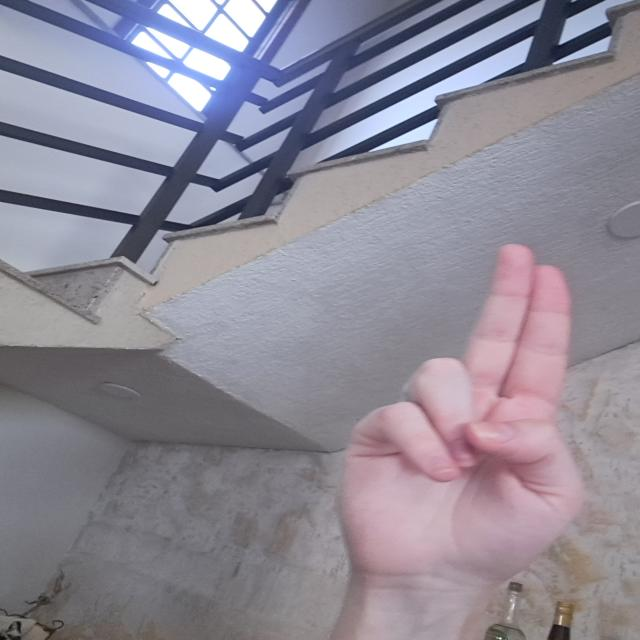U: (327, 214, 596, 586)
